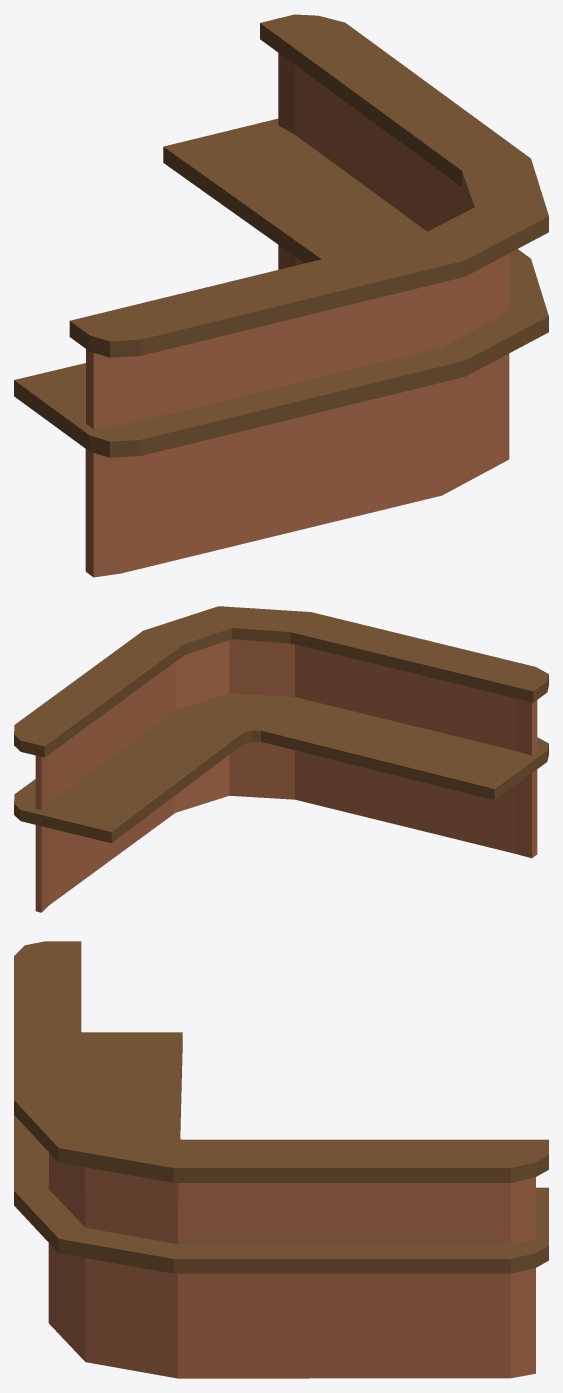
Rendered from recepcionisttable.glb.
3 views of the same model, one above another, from view 1: azimuth 30°, elevation 25°; view 2: azimuth 150°, elevation 25°; view 3: azimuth 270°, elevation 25° (orthographic). The views are drawn at different scales.
Parts seen in each view (by area): view 1: mesh_furniture_receptionist_table_01; view 2: mesh_furniture_receptionist_table_01; view 3: mesh_furniture_receptionist_table_01.
Part boxes in pixels (x1,y1,x2,y2): mesh_furniture_receptionist_table_01: (14,14,548,577); mesh_furniture_receptionist_table_01: (14,606,548,912); mesh_furniture_receptionist_table_01: (14,941,548,1378).
Bounding box in the file's own units: 2.68 × 1.24 × 2.67.
Materials: 1 (1 with a texture image).
